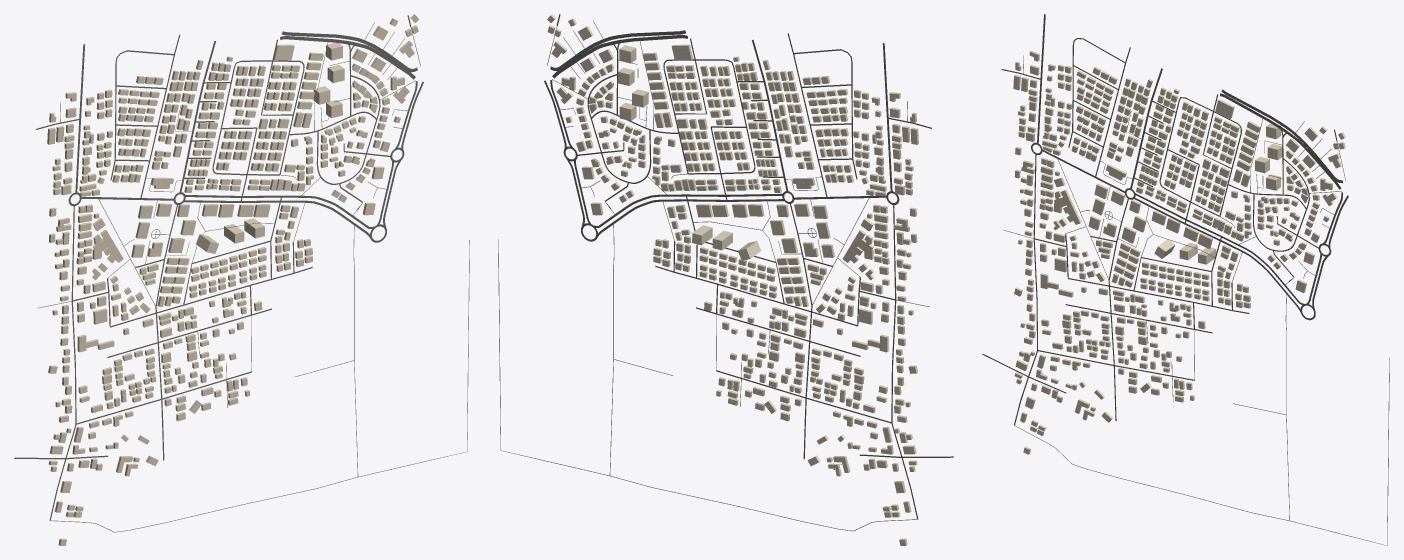
The model's file is historic-palestine-07_30_3492_3242.glb.
The picture shows the model from 3 angles, left to right: view 1: azimuth 30°, elevation 25°; view 2: azimuth 150°, elevation 25°; view 3: azimuth 330°, elevation 25°; orthographic projection. The views are drawn at different scales.
Visible parts, largest first — view 1: Building_.267, Road .004, Road משמר הגבול, Road משמר הגבול.001, Road שדרות אלכסנדר.001; view 2: Building_.267, Road .004, Road משמר הגבול, Road משמר הגבול.001, Road שדרות אלכסנדר, Road שדרות אלכסנדר.001; view 3: Building_.267, Road .004.
Part boxes in pixels (box(x1,y1,x2,y2)): Building_.267: box(92, 229, 123, 263); Road .004: box(165, 240, 469, 522); Road משמר הגבול: box(282, 31, 417, 72); Road משמר הגבול.001: box(280, 36, 415, 79); Road שדרות אלכסנדר.001: box(183, 200, 371, 238); Building_.267: box(842, 229, 873, 263); Road .004: box(498, 239, 801, 521); Road משמר הגבול: box(550, 30, 685, 70); Road משמר הגבול.001: box(552, 35, 687, 78); Road שדרות אלכסנדר: box(593, 193, 783, 227); Road שדרות אלכסנדר.001: box(596, 199, 783, 237); Building_.267: box(1053, 189, 1081, 224); Road .004: box(1117, 358, 1389, 545).
Bounding box in the file's own units: 1182 × 1243 × 50.29.
